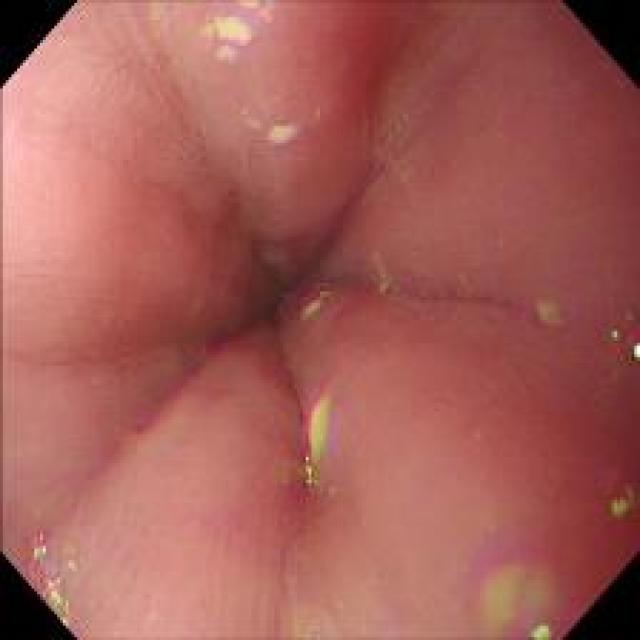bubbles: (294, 619, 322, 638)
color misalignment: (466, 536, 558, 631), (291, 379, 338, 482), (22, 534, 80, 612), (600, 458, 636, 512), (605, 310, 636, 368), (524, 292, 565, 331), (366, 258, 400, 304), (292, 282, 329, 318)
